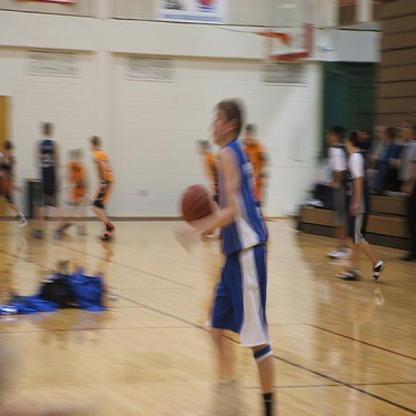basketball: (181, 185, 212, 225)
rim: (256, 30, 284, 40)
